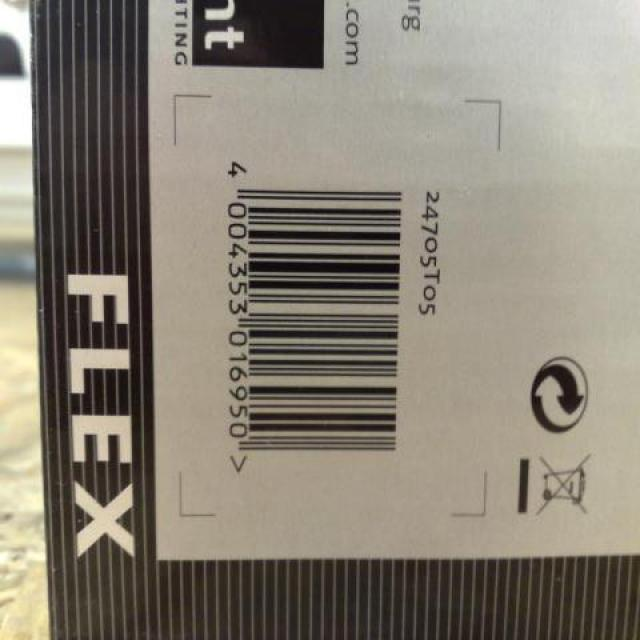Barcode: (176, 96, 493, 519)
